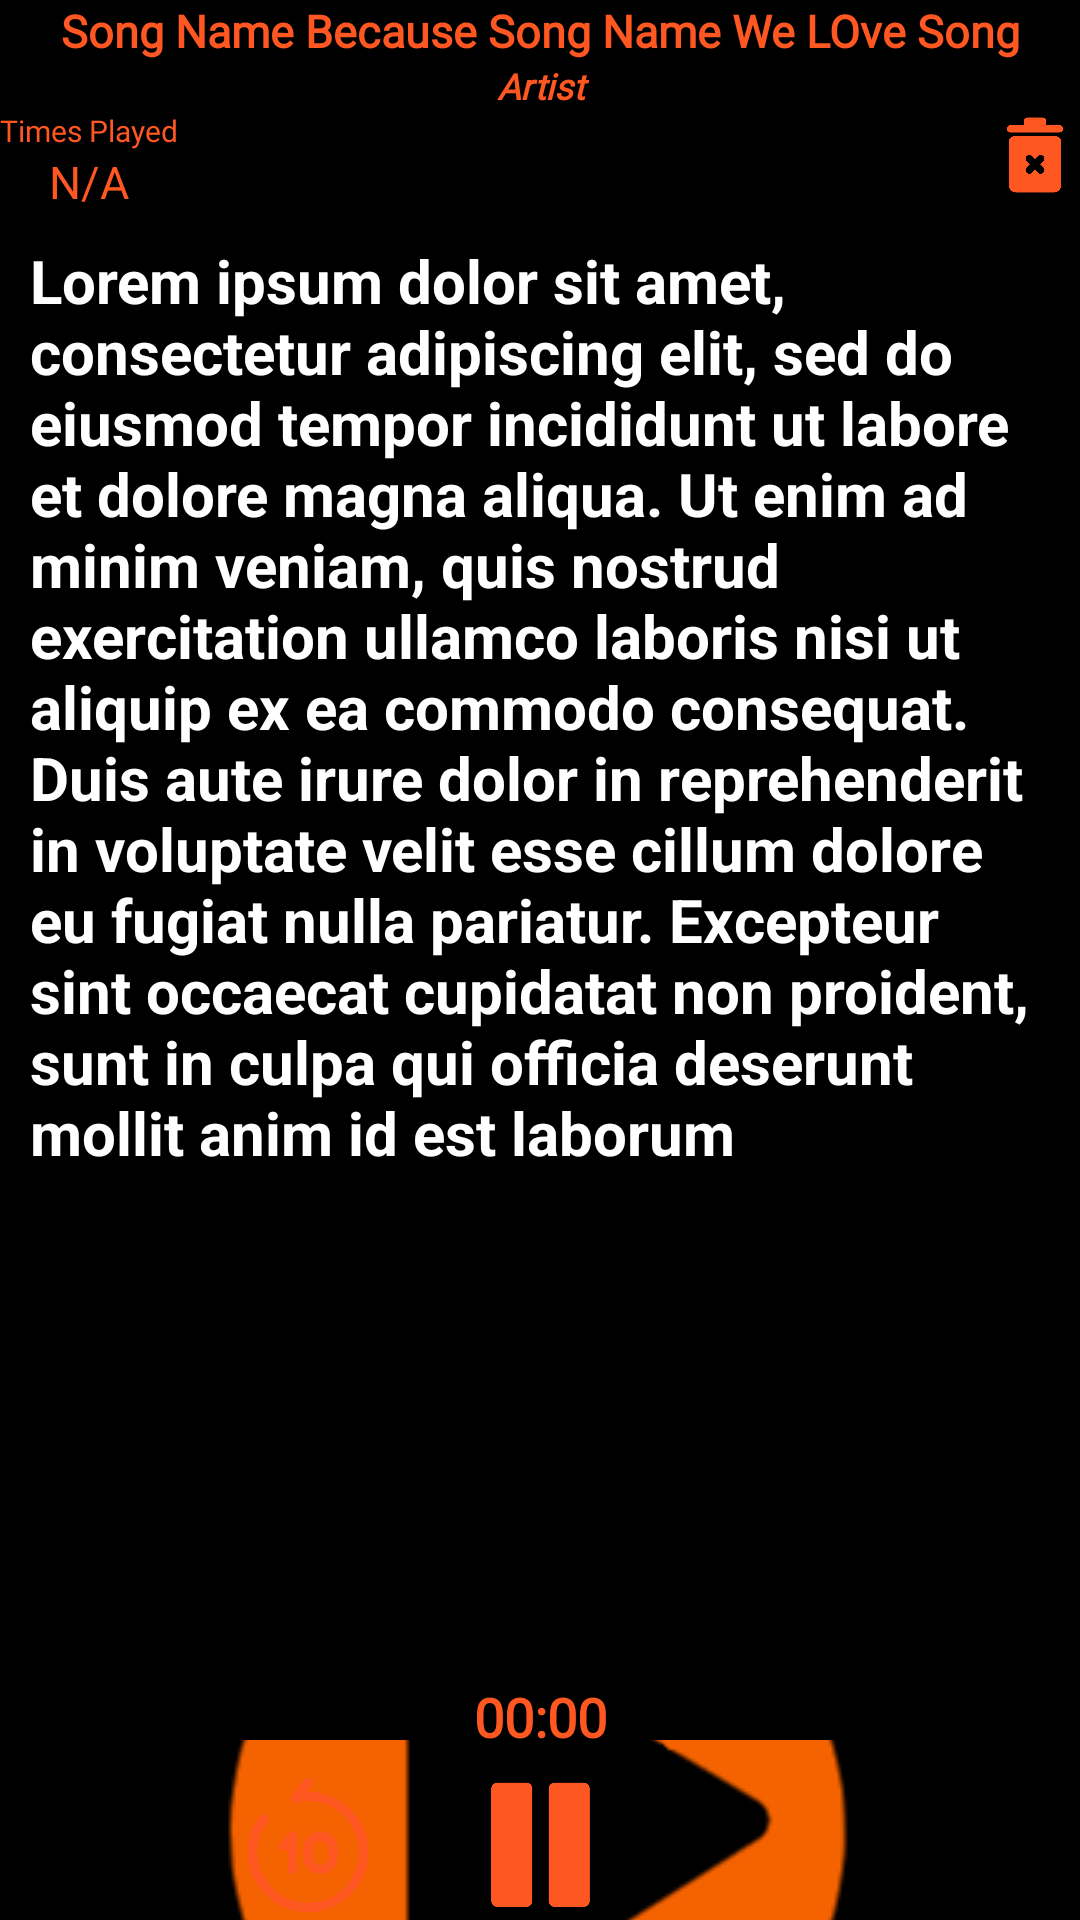

Where to tap for icons on this 1080w x 1920h app screen, as point (x, y):
delete: point (1035, 155)
paused: point (540, 1844)
rewind backwards: point (308, 1845)
